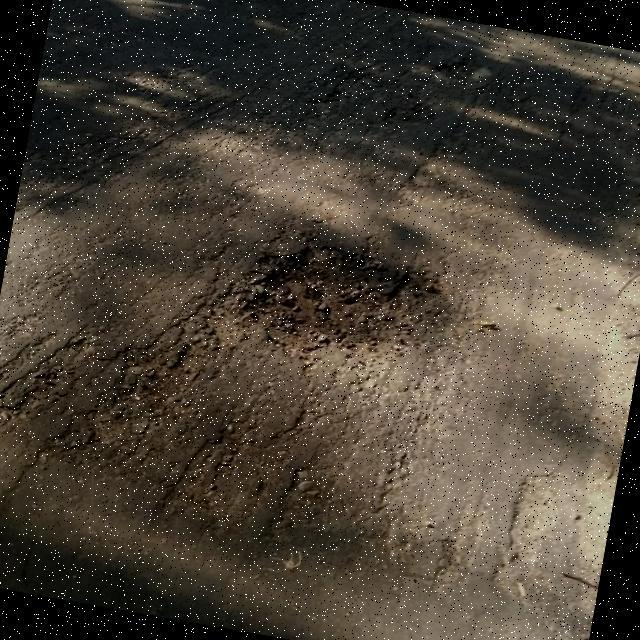Pothole: (197, 244, 447, 395)
